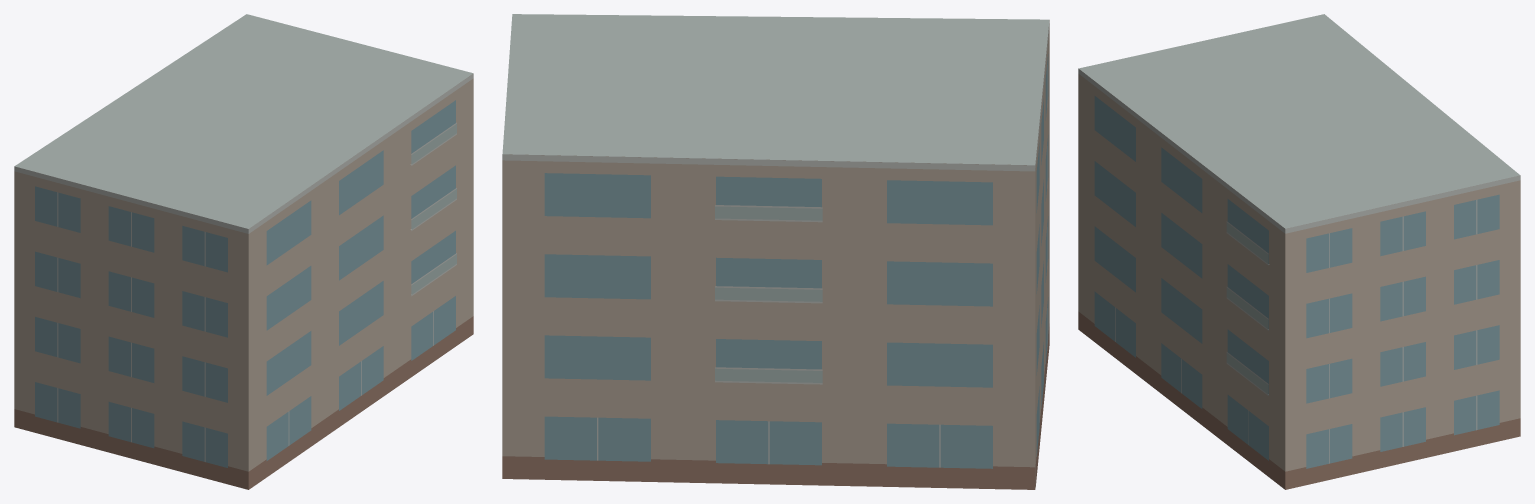
File: survey-upis-32769406.glb
3 views of the same model, side by side, from view 1: azimuth 30°, elevation 25°; view 2: azimuth 150°, elevation 25°; view 3: azimuth 270°, elevation 25° (orthographic). The views are drawn at different scales.
Parts seen in each view (by area): view 1: survey-upis-32769406.tmp; view 2: survey-upis-32769406.tmp; view 3: survey-upis-32769406.tmp.
Boxes of the visible parts, x1,y1,x2,y2 form: survey-upis-32769406.tmp: (14, 14, 473, 489); survey-upis-32769406.tmp: (502, 14, 1049, 489); survey-upis-32769406.tmp: (1078, 14, 1520, 489).
Size of the model in its own units: 22.59 by 12.8 by 19.65.
